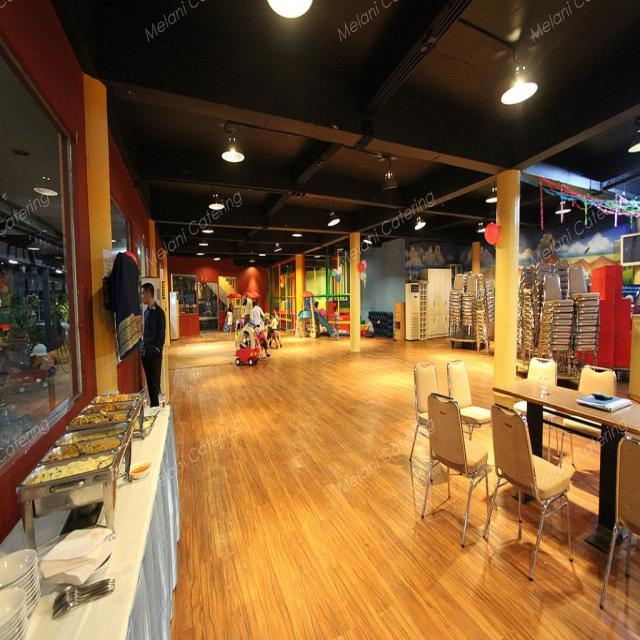body: (139, 281, 167, 408), (250, 299, 266, 328), (241, 293, 251, 334), (266, 311, 278, 342), (332, 305, 342, 341), (224, 306, 235, 334), (364, 314, 375, 339), (238, 328, 251, 349), (272, 307, 280, 327), (313, 300, 321, 316)
